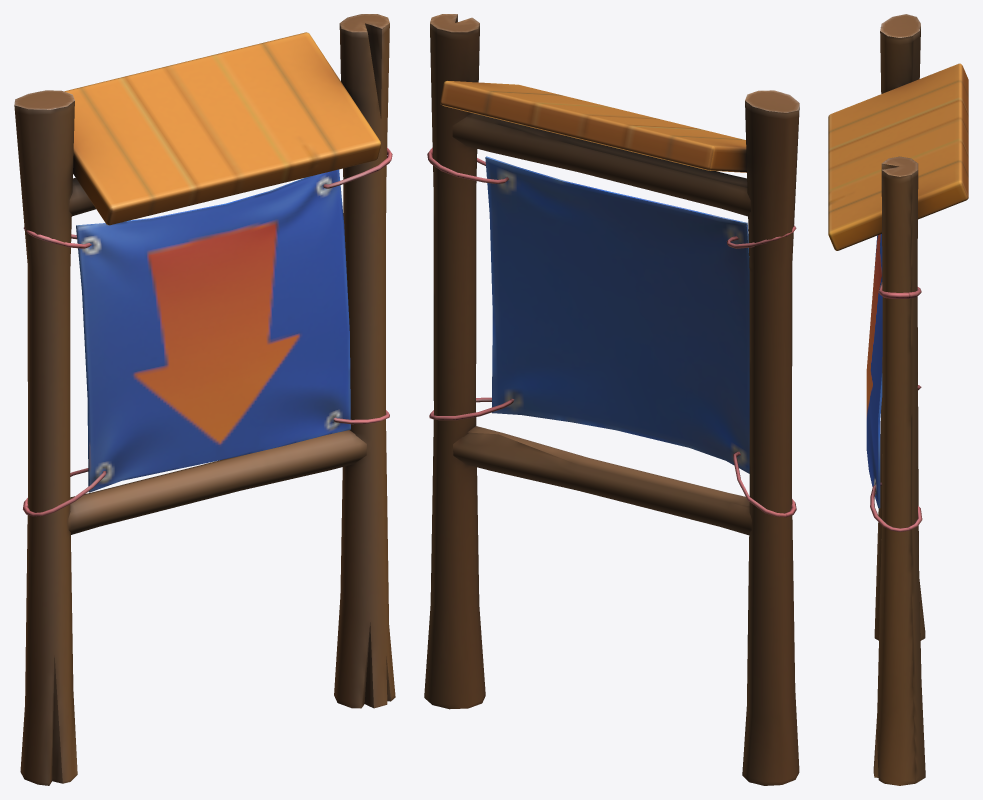
Rendered from Barrier_2.fbx.
The picture shows the model from 3 angles, left to right: view 1: azimuth 30°, elevation 25°; view 2: azimuth 150°, elevation 25°; view 3: azimuth 270°, elevation 25°; orthographic projection. The views are drawn at different scales.
Parts seen in each view (by area): view 1: Barrier_2; view 2: Barrier_2; view 3: Barrier_2.
Boxes of the visible parts, bbox=[...] form: Barrier_2: bbox=[14, 14, 395, 785]; Barrier_2: bbox=[424, 14, 799, 785]; Barrier_2: bbox=[828, 14, 968, 785].
Size of the model in its own units: 204 by 351 by 73.37.
